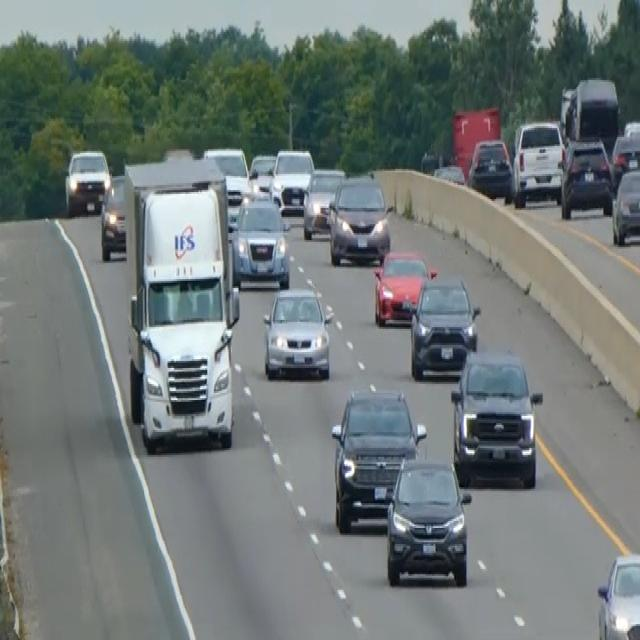bus: (563, 74, 620, 154)
car: (330, 386, 425, 533), (449, 347, 543, 487), (385, 455, 471, 587), (408, 272, 480, 379), (261, 284, 332, 380), (327, 171, 390, 265), (233, 192, 290, 288), (372, 247, 435, 327), (511, 118, 565, 205), (559, 137, 614, 219), (595, 550, 639, 638), (301, 165, 346, 240), (64, 146, 110, 215), (467, 135, 513, 201), (270, 146, 314, 213), (202, 144, 250, 197), (99, 172, 127, 260), (611, 166, 639, 246), (610, 130, 639, 187), (248, 151, 276, 194), (432, 160, 465, 185)
lorry: (121, 153, 241, 453)
